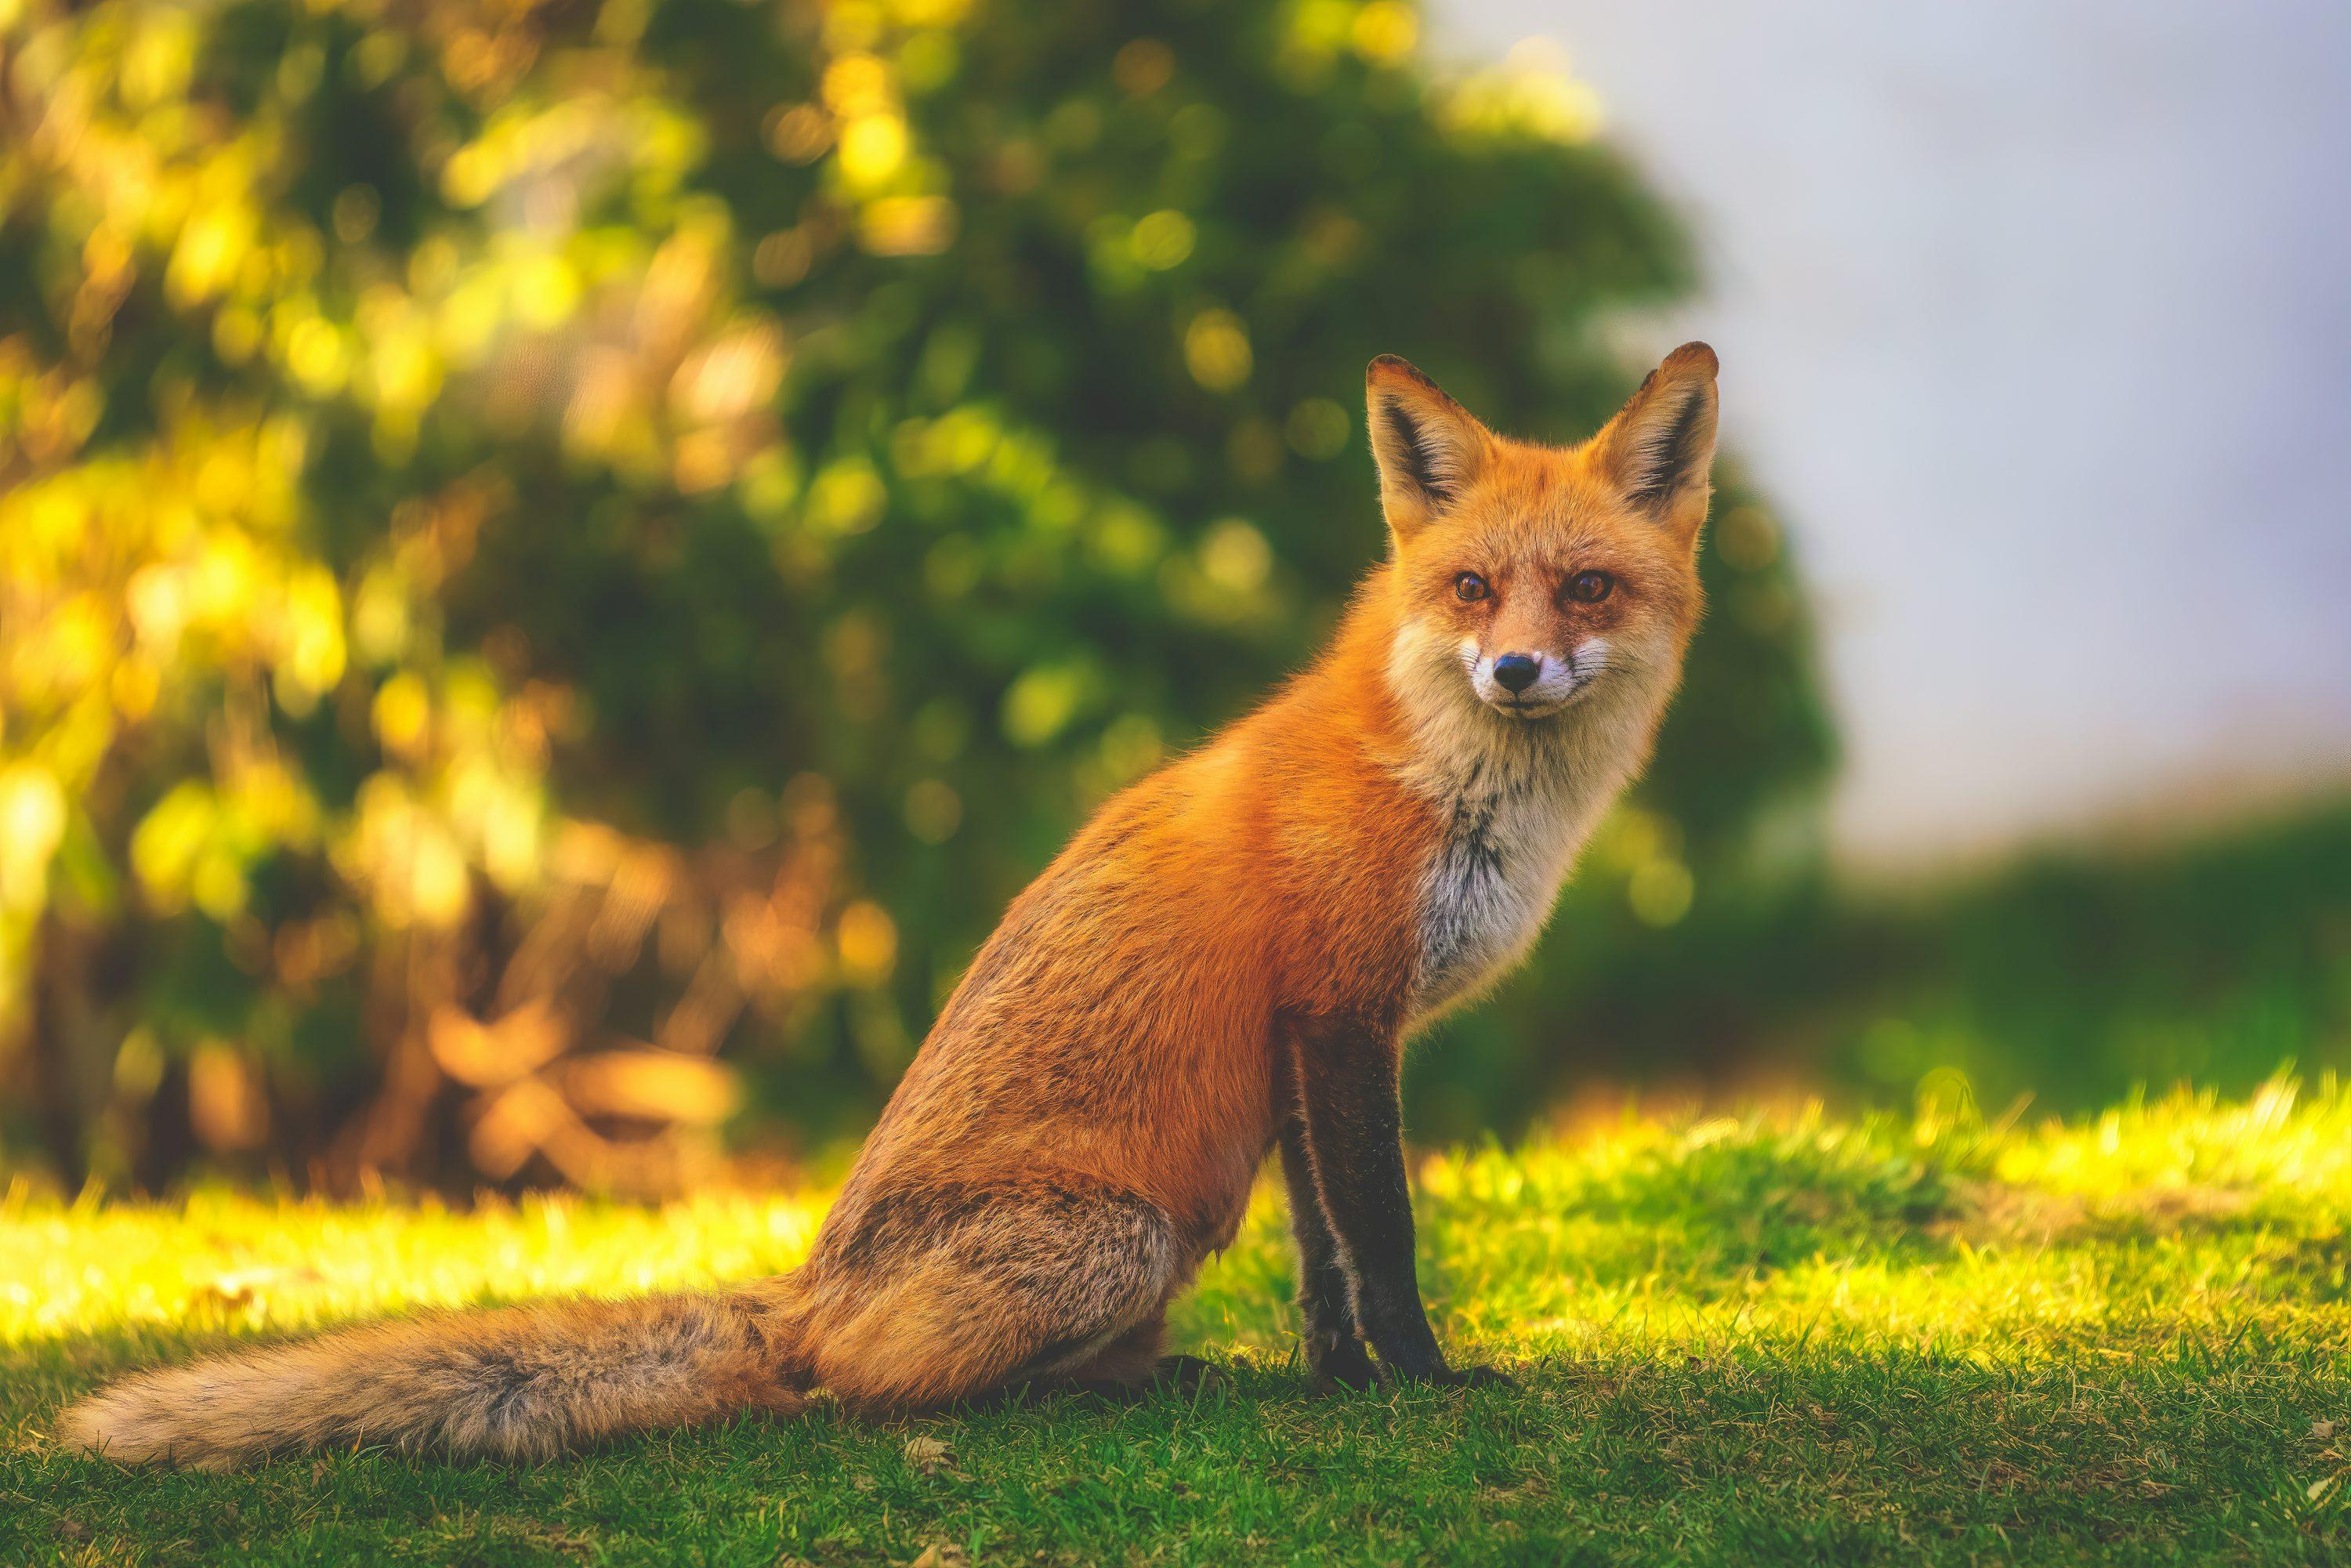fox: (791, 348, 1720, 1437)
